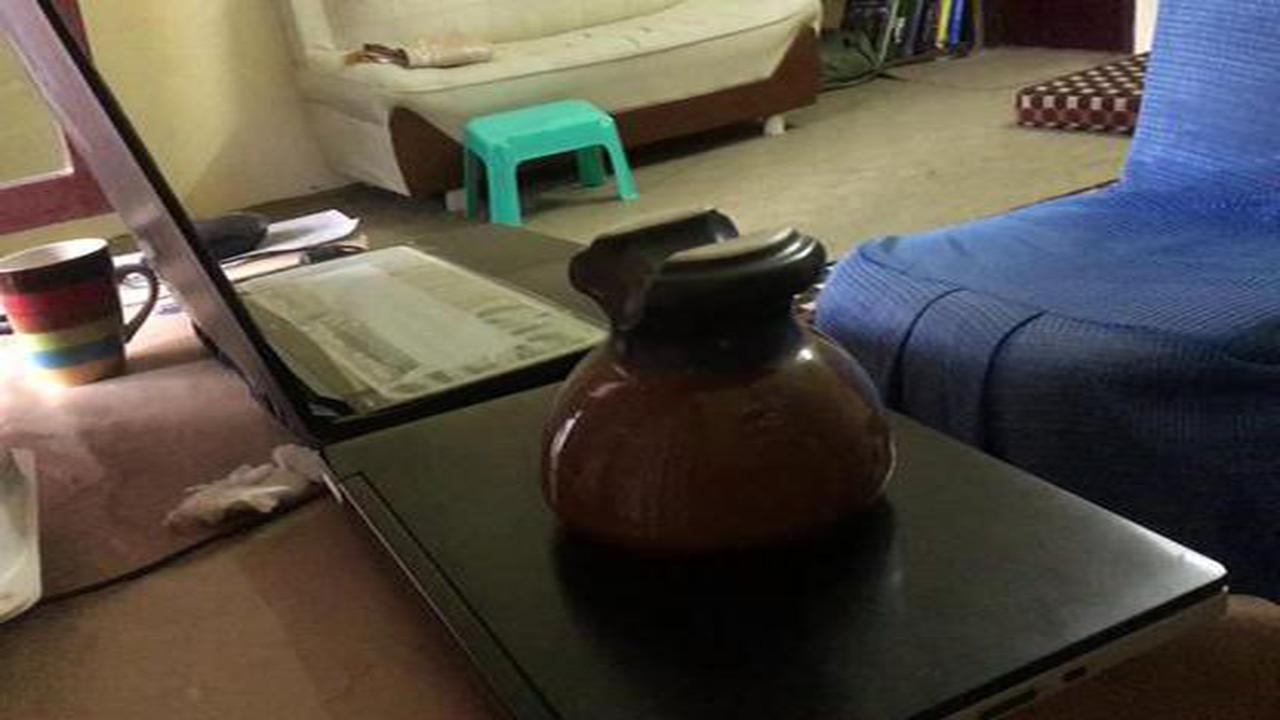insulator_pin: (511, 203, 927, 596)
